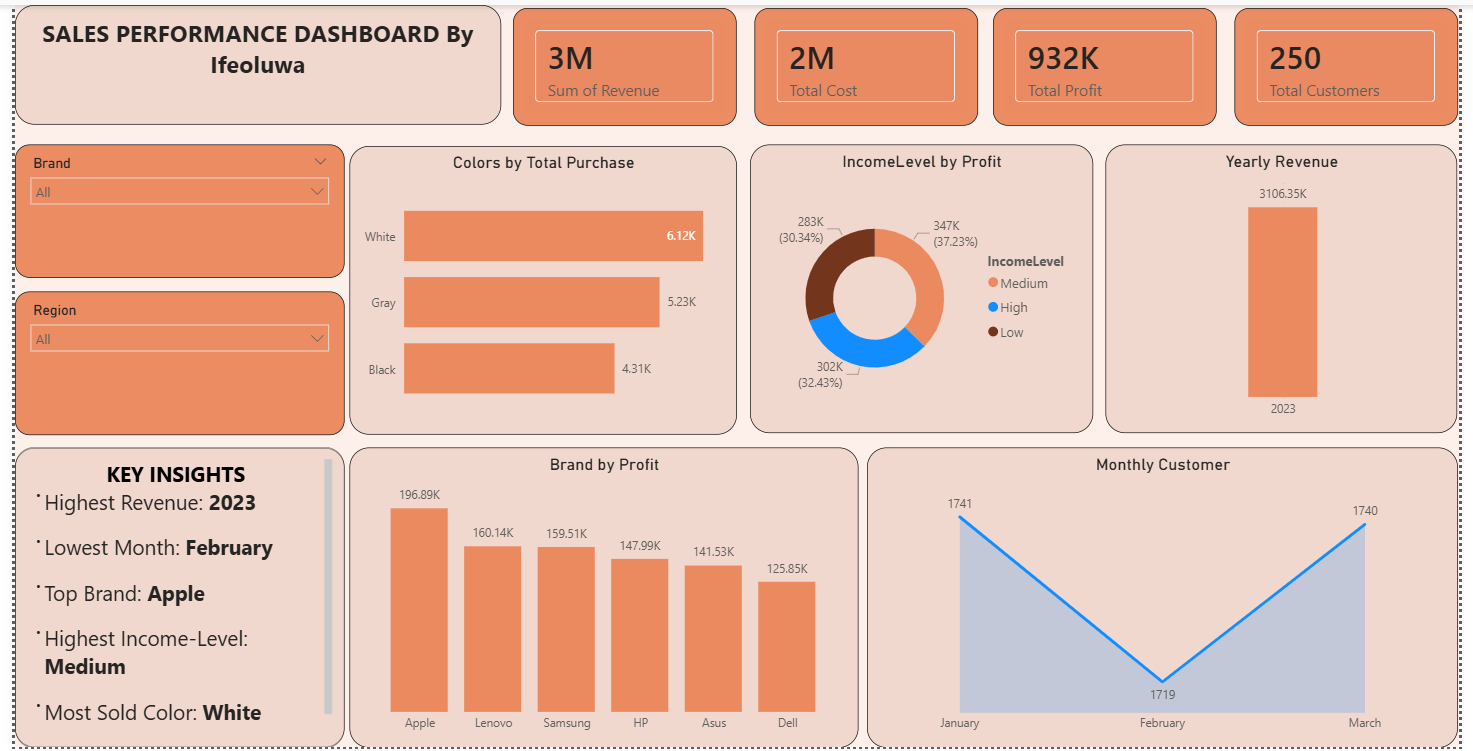

What the dashboard file says about the page in this screenshot:
{"tool":"powerbi","page":{"name":"Page 1","canvas":[1480,761],"ordinal":0},"visuals":[{"type":"columnChart","title":"Brand by Profit","fields":{"Category":["PRODUCTS.Brand"],"Y":["Sum(SALES.Profits)"]},"box":[343.2,453.5,521.7,308.1],"z":0},{"type":"barChart","title":" Colors by Total Purchase","fields":{"Category":["PRODUCTS.Color"],"Y":["Sum(SALES.Quantity)"]},"box":[343.2,145.3,397.4,295.9],"z":1000},{"type":"clusteredColumnChart","title":" Yearly  Revenue","fields":{"Category":["SALES.SaleDate.Variation.Date Hierarchy.Year"],"Y":["Sum(SALES.Revenue)"]},"box":[1118.8,143.6,360.7,295.9],"z":2000},{"type":"areaChart","title":" Monthly  Customer","fields":{"Category":["SALES.SaleDate.Variation.Date Hierarchy.Month"],"Y":["CountNonNull(SALES.MonthlyCustomers)"]},"box":[873.6,453.5,605.8,308.1],"z":3000},{"type":"donutChart","title":"IncomeLevel by Profit","fields":{"Category":["CUSTOMERS.IncomeLevel"],"Y":["Sum(SALES.Profits)"]},"box":[754.6,143.6,351.9,295.9],"z":4000},{"type":"textbox","box":[0,0,499,122.6],"z":5000},{"type":"slicer","fields":{"Values":["PRODUCTS.Brand"]},"box":[0,143.6,337.9,136.6],"z":6000},{"type":"slicer","fields":{"Values":["CUSTOMERS.Region"]},"box":[0,294.1,337.9,147.1],"z":7000},{"type":"textbox","box":[0,453.5,337.9,308.1],"z":8000},{"type":"cardVisual","fields":{"Data":["CountNonNull(CUSTOMERS.TotalCustomers)"]},"box":[1250.1,3.5,229.4,120.8],"z":9000},{"type":"cardVisual","fields":{"Data":["Sum(SALES.Profit)"]},"box":[1003.2,3.5,229.4,120.8],"z":10000},{"type":"cardVisual","fields":{"Data":["Sum(SALES.Total Cost)"]},"box":[758.1,3.5,229.4,120.8],"z":11000},{"type":"cardVisual","fields":{"Data":["Sum(SALES.Revenue)"]},"box":[511.2,3.5,229.4,120.8],"z":12000}]}

Visuals, with their boxes in screenshot pixels (x1, y1, x2, y2), scaled from the page's 1480x761 canvas onto the 1473x751 screenshot:
"Brand by Profit" columnChart: Rect(342, 448, 861, 750)
" Colors by Total Purchase" barChart: Rect(342, 143, 737, 435)
" Yearly  Revenue" clusteredColumnChart: Rect(1114, 142, 1472, 434)
" Monthly  Customer" areaChart: Rect(869, 448, 1472, 750)
"IncomeLevel by Profit" donutChart: Rect(751, 142, 1101, 434)
textbox: Rect(0, 0, 497, 121)
slicer - PRODUCTS.Brand: Rect(0, 142, 336, 277)
slicer - CUSTOMERS.Region: Rect(0, 290, 336, 435)
textbox: Rect(0, 448, 336, 750)
cardVisual - CountNonNull(CUSTOMERS.TotalCustomers): Rect(1244, 3, 1472, 123)
cardVisual - Sum(SALES.Profit): Rect(998, 3, 1227, 123)
cardVisual - Sum(SALES.Total Cost): Rect(755, 3, 983, 123)
cardVisual - Sum(SALES.Revenue): Rect(509, 3, 737, 123)
